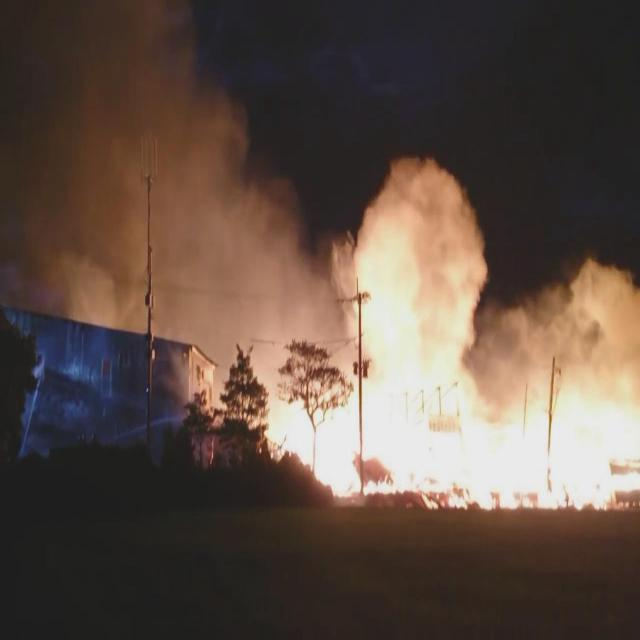Fire: (263, 375, 639, 510)
